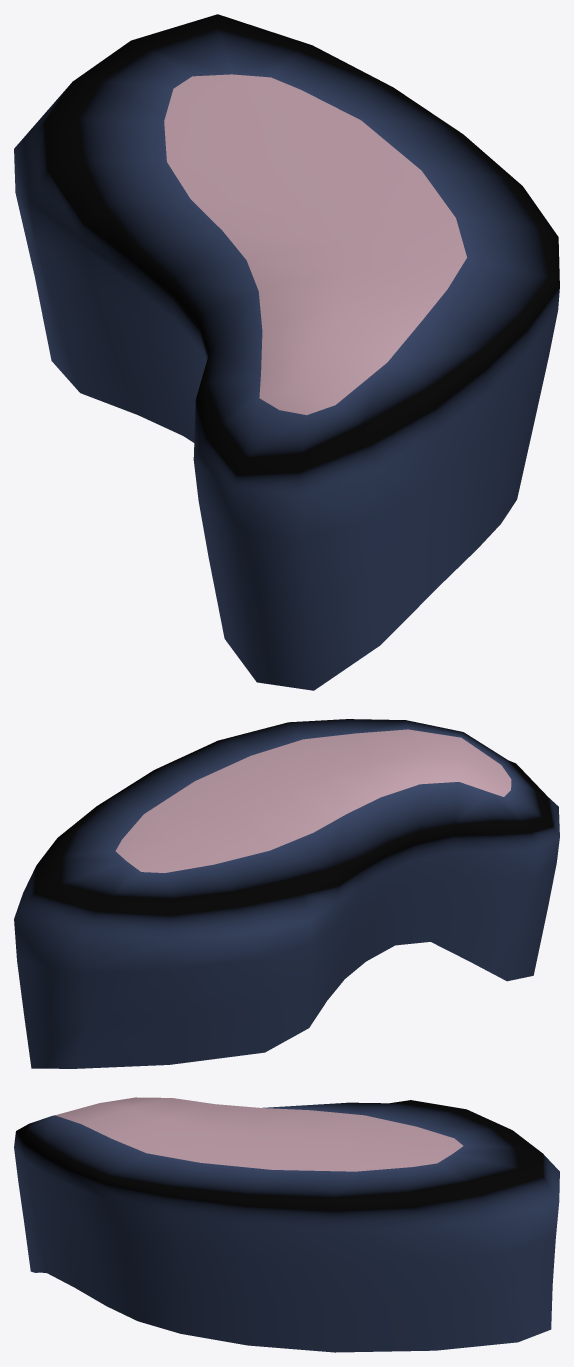
File: New_Land_03.fbx
3 renders of one model, top to bottom at view 1: azimuth 30°, elevation 25°; view 2: azimuth 150°, elevation 25°; view 3: azimuth 270°, elevation 25°, orthographic. The views are drawn at different scales.
Visible parts, largest first — view 1: Land_03_Low1; view 2: Land_03_Low1; view 3: Land_03_Low1.
Part boxes in pixels (x1=…): Land_03_Low1: x1=14, y1=14, x2=559, y2=690; Land_03_Low1: x1=14, y1=719, x2=559, y2=1068; Land_03_Low1: x1=14, y1=1097, x2=559, y2=1352.
Bounding box in the file's own units: 1133 × 767 × 1904.
